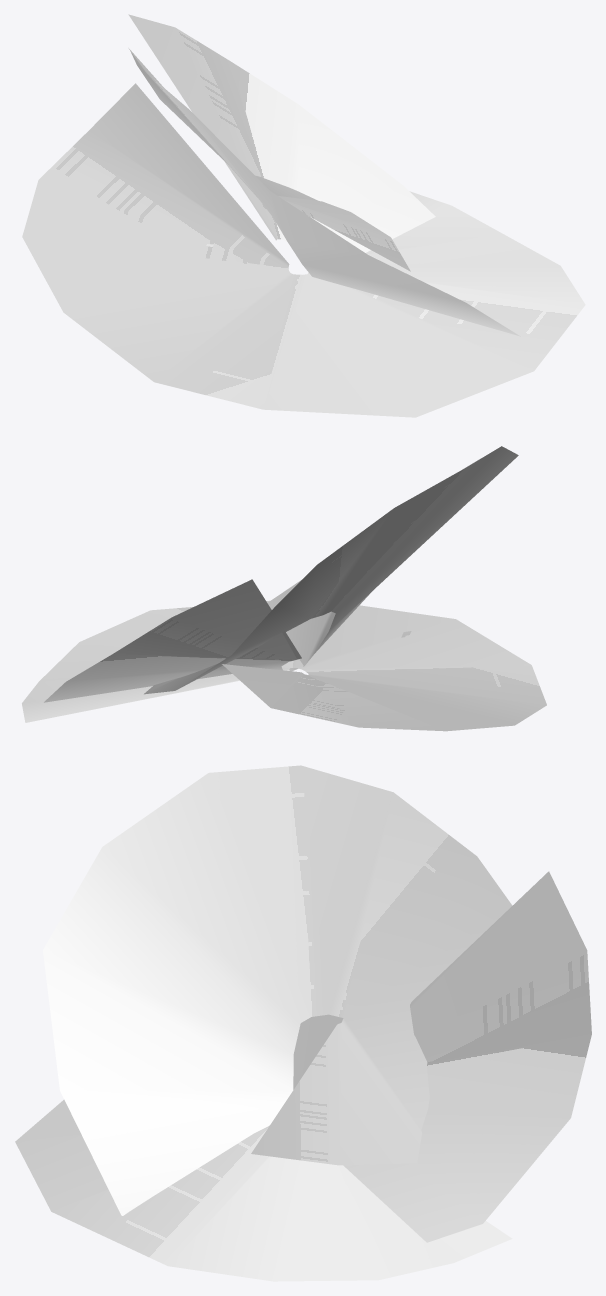
Rendered from eff_enem_MA_e063_Wind_SwordAttackDash_M.obj.
The picture shows the model from 3 angles, top to bottom: view 1: azimuth 30°, elevation 25°; view 2: azimuth 150°, elevation 25°; view 3: azimuth 270°, elevation 25°; orthographic projection. The views are drawn at different scales.
Parts seen in each view (by area): view 1: polygon2, polygon1; view 2: polygon2, polygon1; view 3: polygon1, polygon2.
Boxes of the visible parts, x1=… form: polygon2: x1=22, y1=83, x2=585, y2=417; polygon1: x1=128, y1=14, x2=520, y2=336; polygon2: x1=22, y1=600, x2=546, y2=731; polygon1: x1=44, y1=446, x2=518, y2=702; polygon1: x1=43, y1=765, x2=591, y2=1242; polygon2: x1=15, y1=1014, x2=512, y2=1281.
Size of the model in its own units: 63.74 by 34.93 by 58.25.
3 materials, 3 textured.
